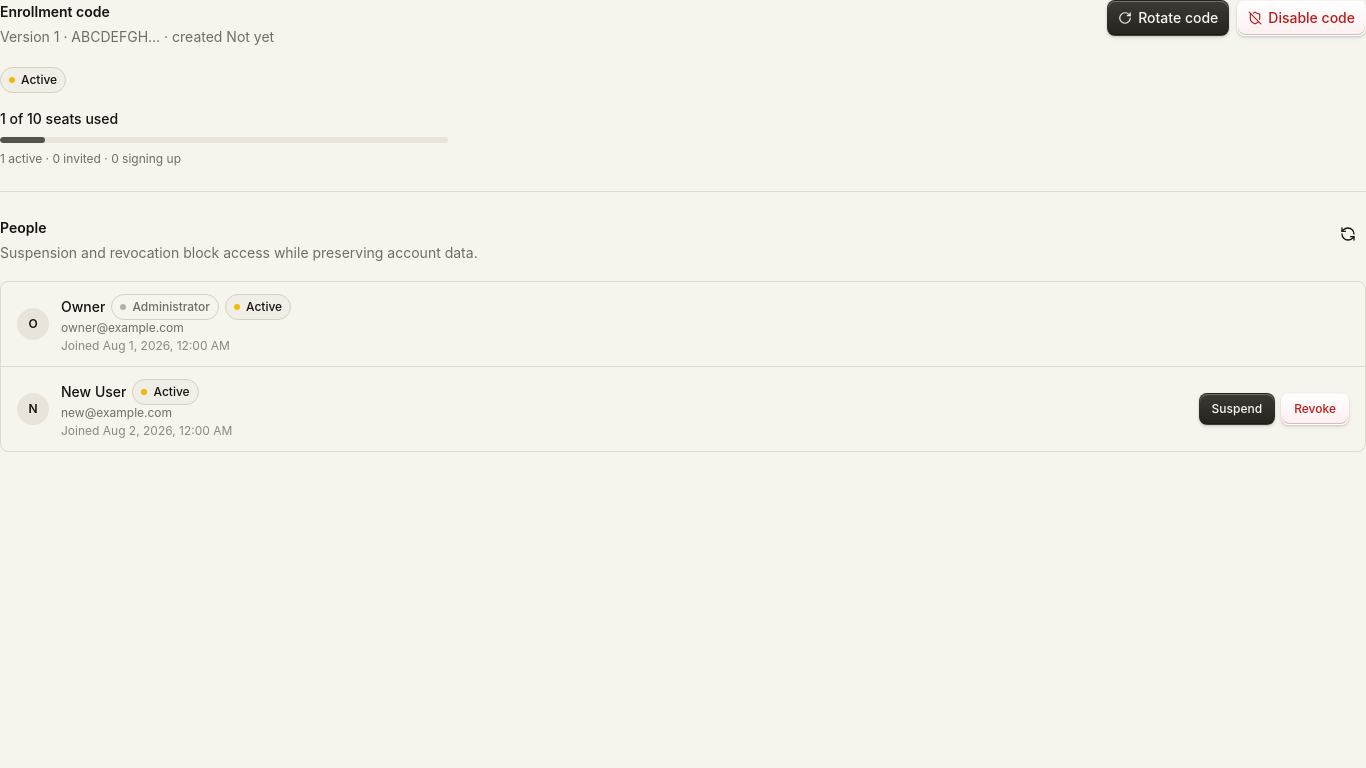
Test: AdminPeopleAccessCard › warns before rotation and sends the owner action to the rotation endpoint
The width and height of the screenshot is (1366, 768).
Click the button "Rotate code": (1168, 18) [1107,0,1229,36]
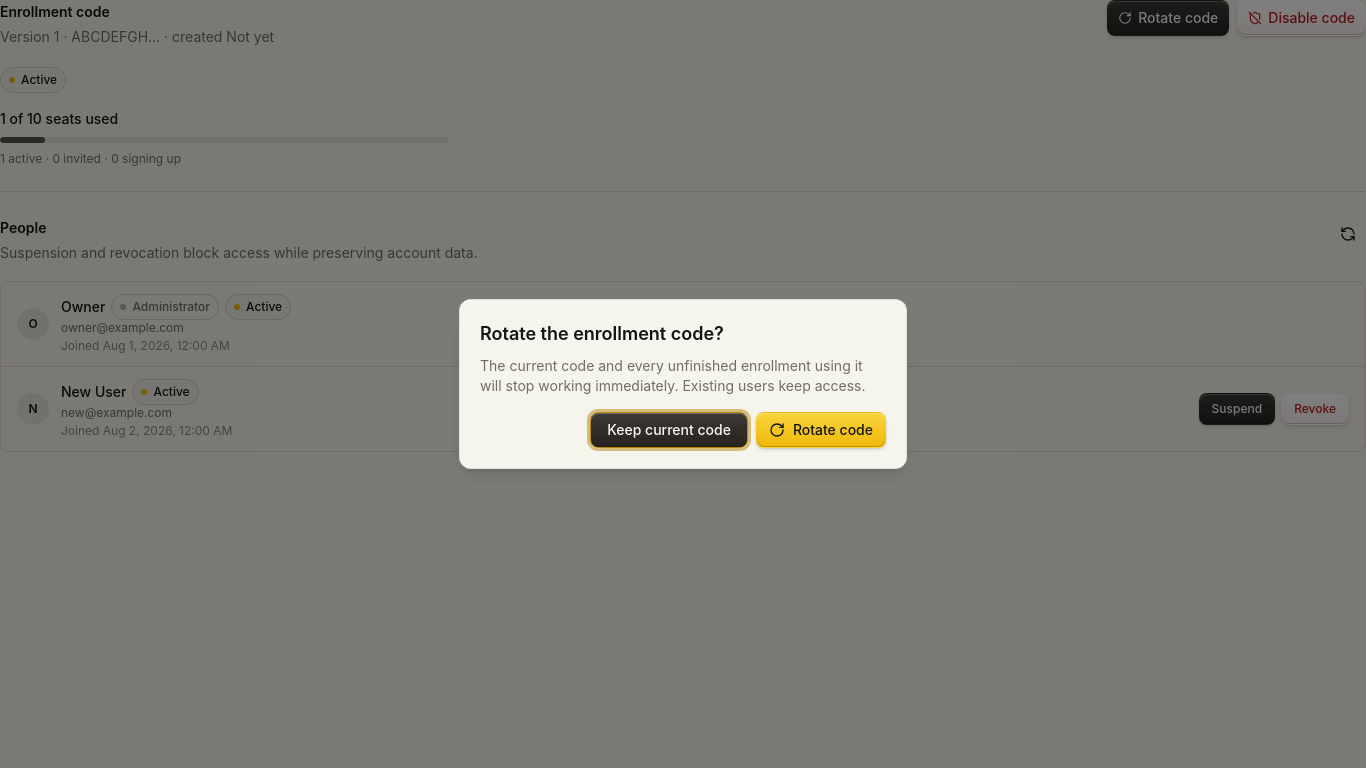
Now the dialog "Rotate the enrollment code?" shows "unfinished enrollment", box [480,357,866,394]
Click the button "Rotate code": (821, 430) [756,412,886,448]
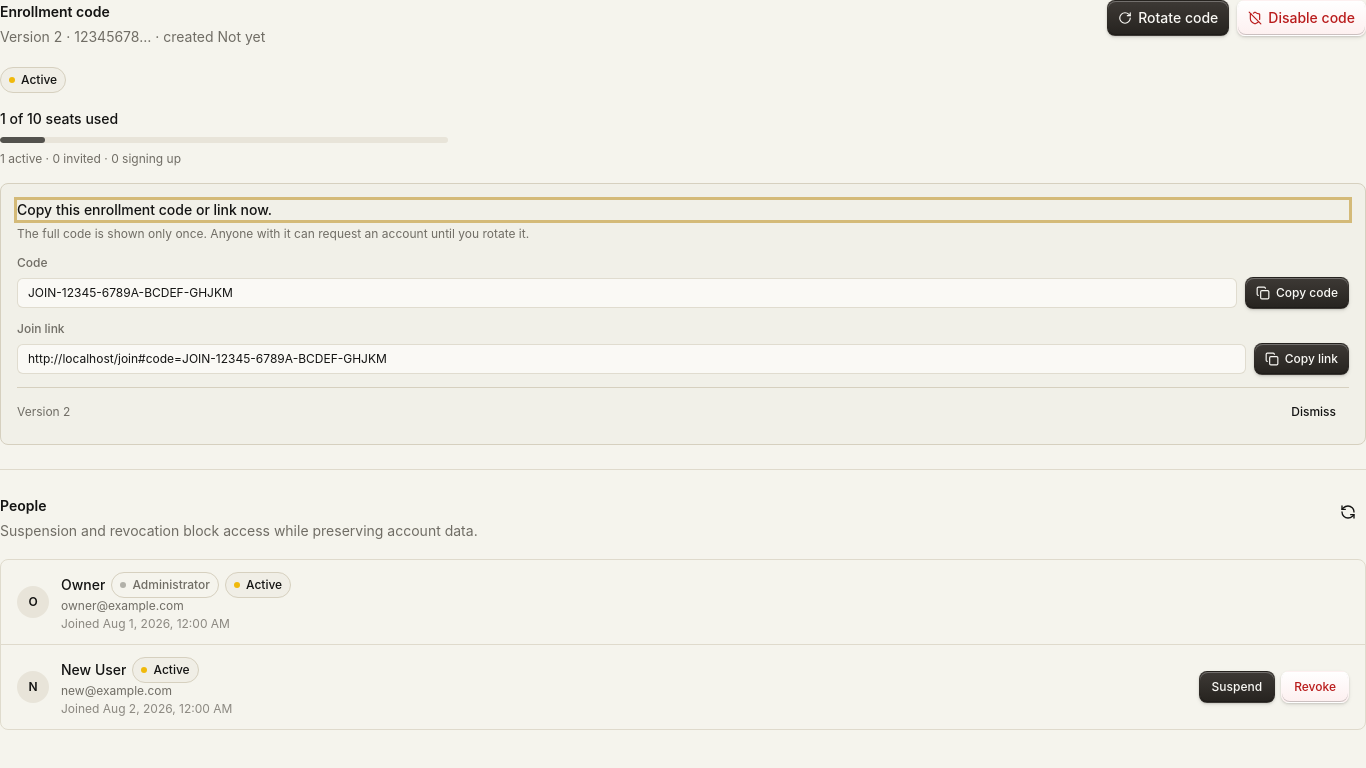
Now the text "JOIN-12345-6789A-BCDEF-GHJKM" is shown, box [17,278,1237,308]
